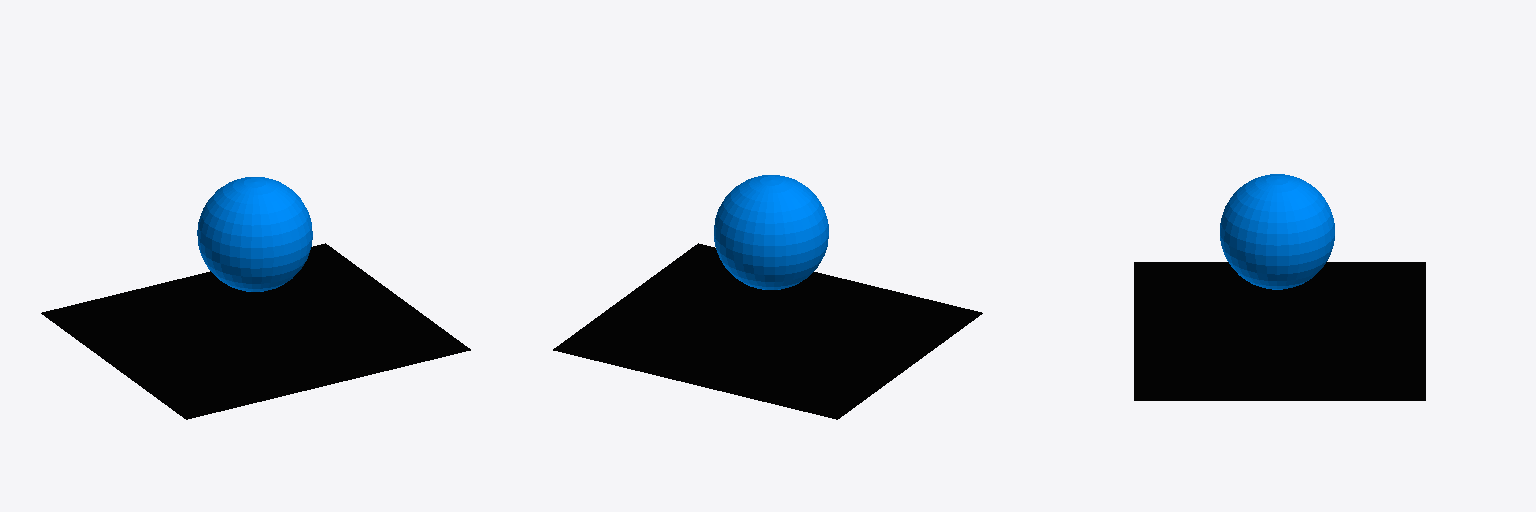
File: normaleext.obj
3 renders of one model, left to right at view 1: azimuth 30°, elevation 25°; view 2: azimuth 150°, elevation 25°; view 3: azimuth 270°, elevation 25°, orthographic.
Visible parts, largest first — view 1: Plane001, MeshBright; view 2: Plane001, MeshBright; view 3: Plane001, MeshBright.
Boxes of the visible parts, x1=… form: Plane001: x1=41, y1=243, x2=470, y2=419; MeshBright: x1=197, y1=177, x2=312, y2=291; Plane001: x1=553, y1=243, x2=982, y2=419; MeshBright: x1=714, y1=175, x2=828, y2=289; Plane001: x1=1134, y1=262, x2=1425, y2=400; MeshBright: x1=1220, y1=174, x2=1334, y2=289.
Size of the model in its own units: 20807 by 10524 by 18425.